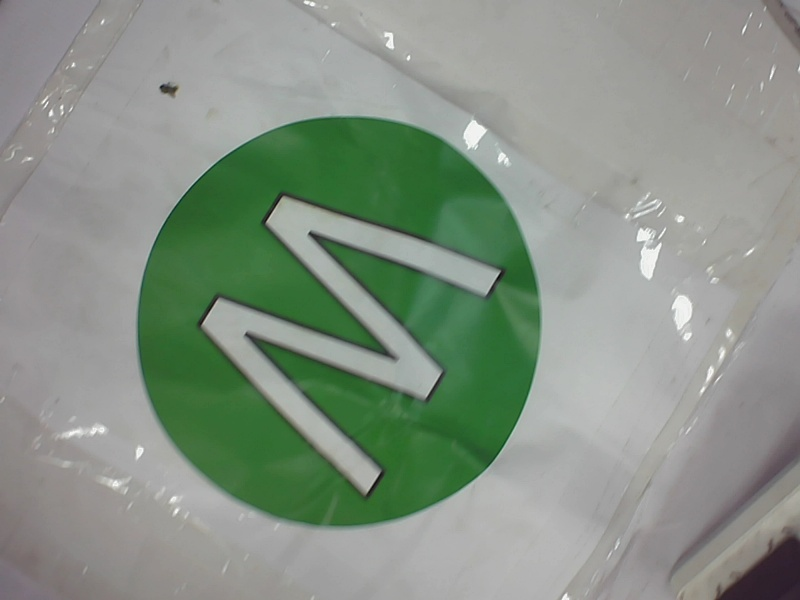areaB: (116, 107, 561, 536)
